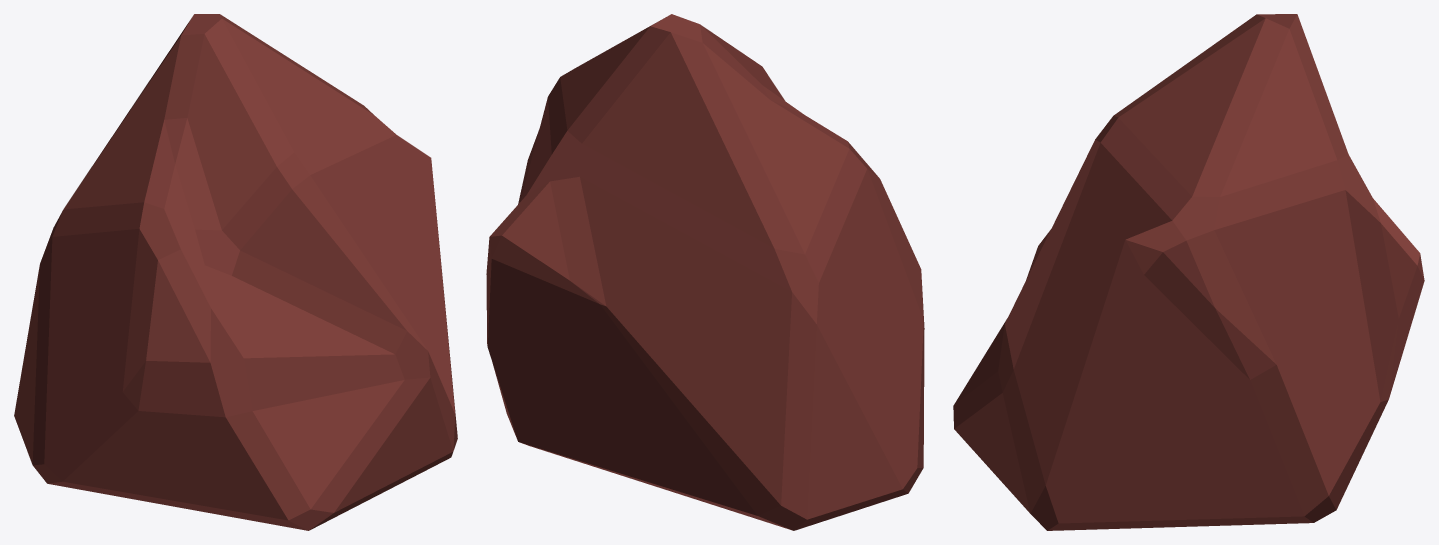
File: Rock_11_Red.fbx
3 views of the same model, side by side, from view 1: azimuth 30°, elevation 25°; view 2: azimuth 150°, elevation 25°; view 3: azimuth 270°, elevation 25° (orthographic). The views are drawn at different scales.
Visible parts, largest first — view 1: Rock_11_Red; view 2: Rock_11_Red; view 3: Rock_11_Red.
Part boxes in pixels (x1=…): Rock_11_Red: x1=14, y1=14, x2=457, y2=530; Rock_11_Red: x1=486, y1=14, x2=924, y2=530; Rock_11_Red: x1=953, y1=14, x2=1424, y2=530.
Size of the model in its own units: 243 by 265 by 253.
